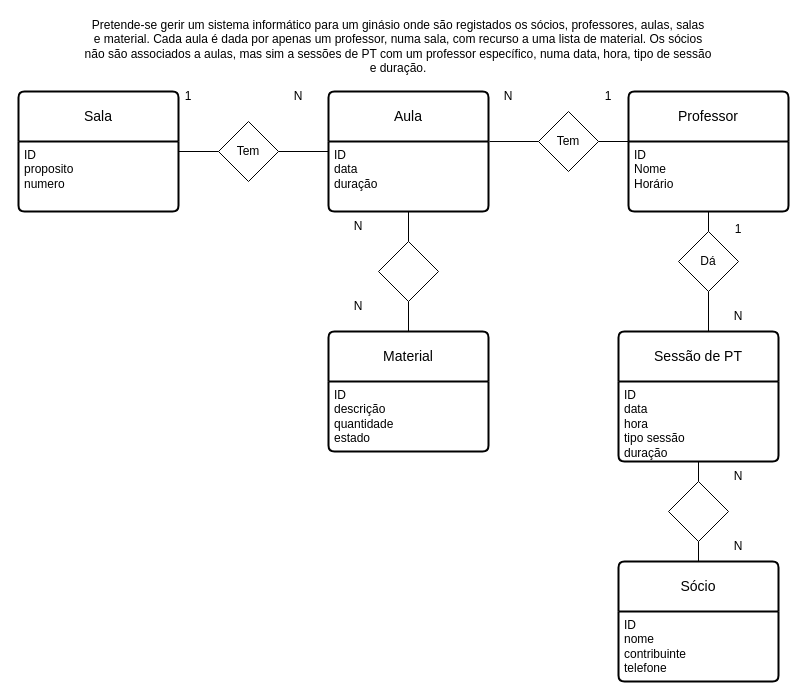
Image size: 806x699. Some labels were removed from this diagram. Here are the shapes that lost their labels. From the top down, the centre of each, then its label:
At pixel 408 271: "Usa".
At pixel 698 511: "Participa".
